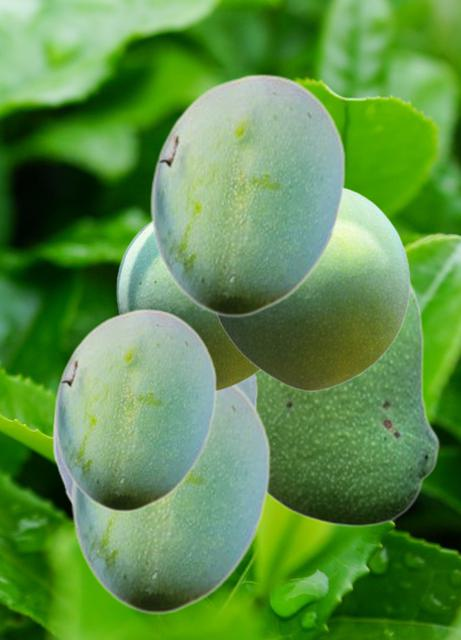green_mango: (149, 73, 345, 316), (256, 276, 439, 527), (70, 385, 270, 613), (214, 186, 409, 390), (52, 314, 257, 505), (53, 308, 216, 511), (116, 221, 261, 391)
